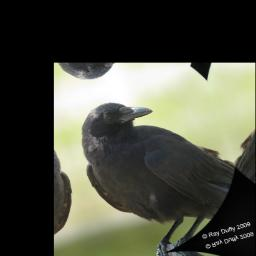Crow: (66, 75, 254, 256)
